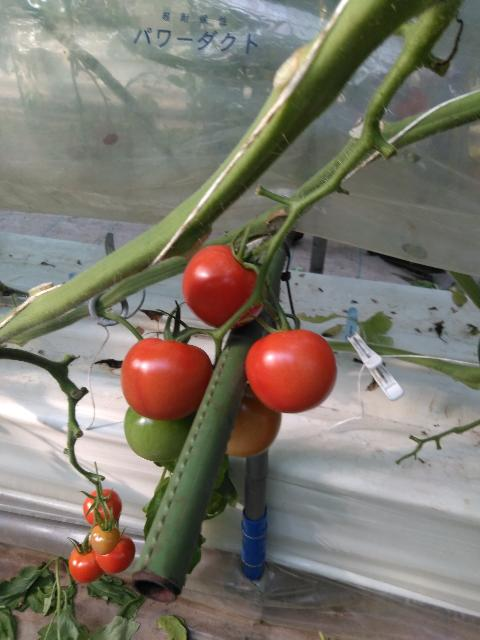l_fully_ripened: (245, 328, 338, 413), (120, 337, 214, 420), (182, 245, 266, 329), (95, 532, 135, 574), (68, 541, 106, 584), (83, 489, 122, 526)
l_green: (123, 404, 195, 462)
l_half_ripened: (225, 383, 281, 458), (90, 523, 119, 555)
